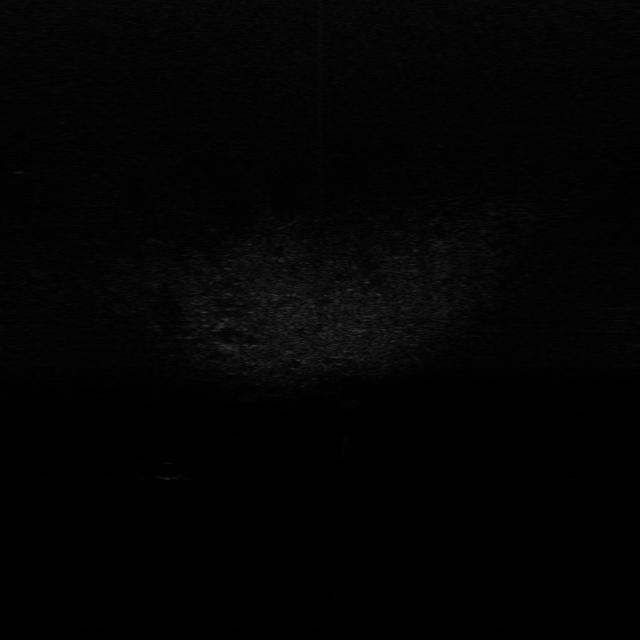ball: (152, 459, 186, 482)
cube: (337, 393, 362, 415)
